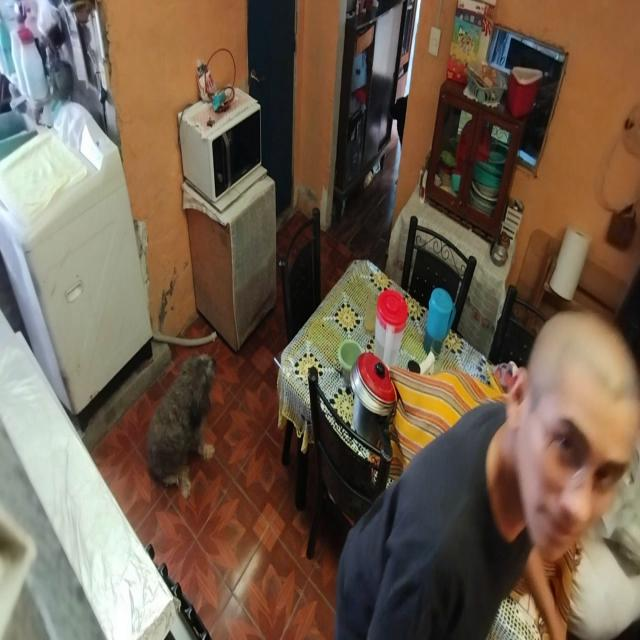adult: (334, 314, 640, 640)
